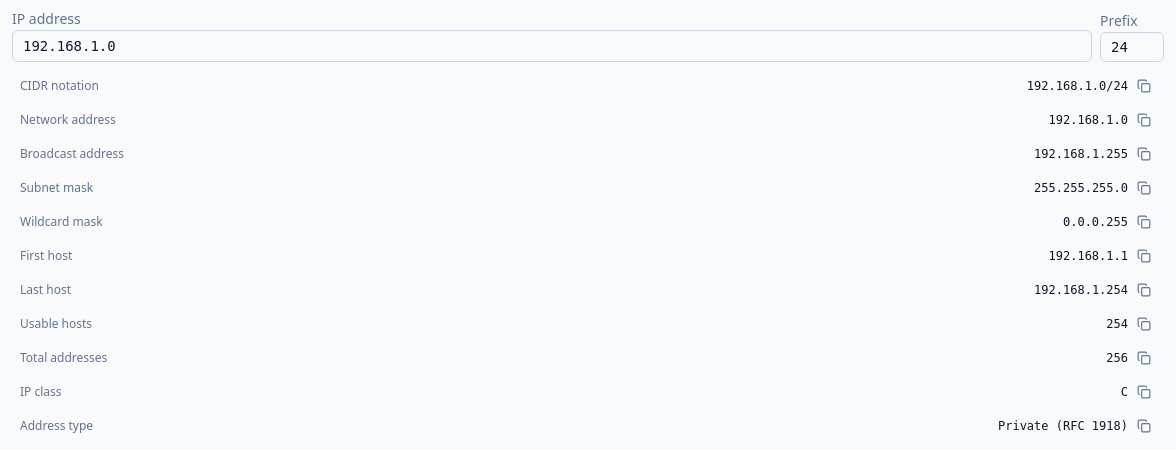
Test: SubnetCalculatorWidget › accepts a full CIDR block pasted into the address field
Type "10.0.0.0/8" into the field labelled "IP address". click: {"x": 552, "y": 46}
box: left=12, top=30, right=1092, bottom=62
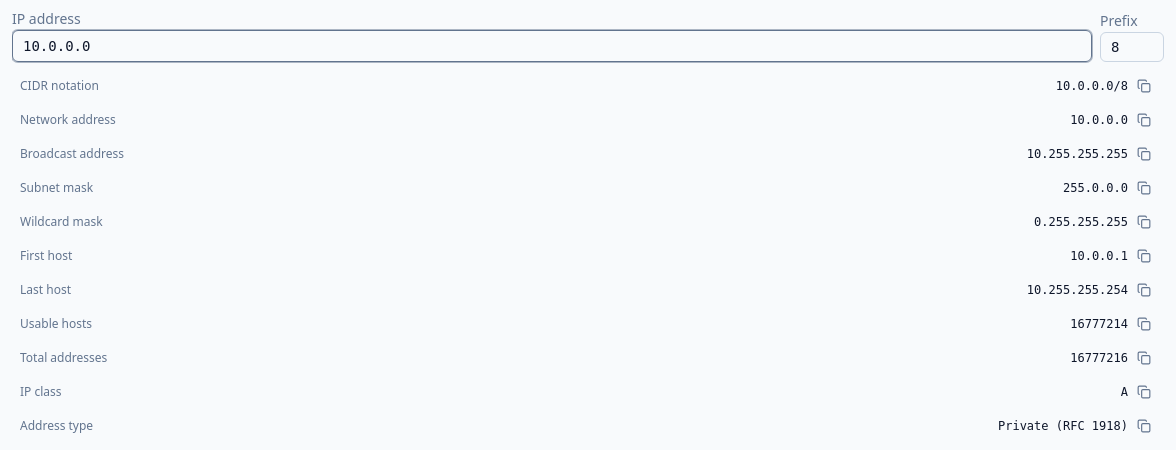
Expected: the field labelled "IP address" holds "10.0.0.0", left=12, top=30, right=1092, bottom=62
Expected: the number field labelled "Prefix" holds "8", left=1100, top=32, right=1164, bottom=62
